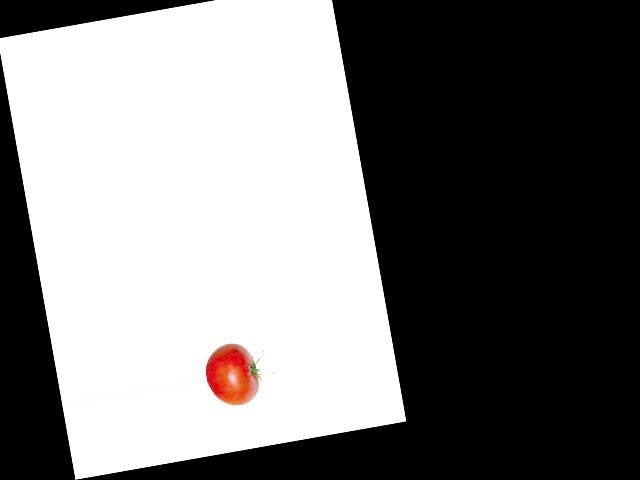tomato: (201, 340, 262, 410)
